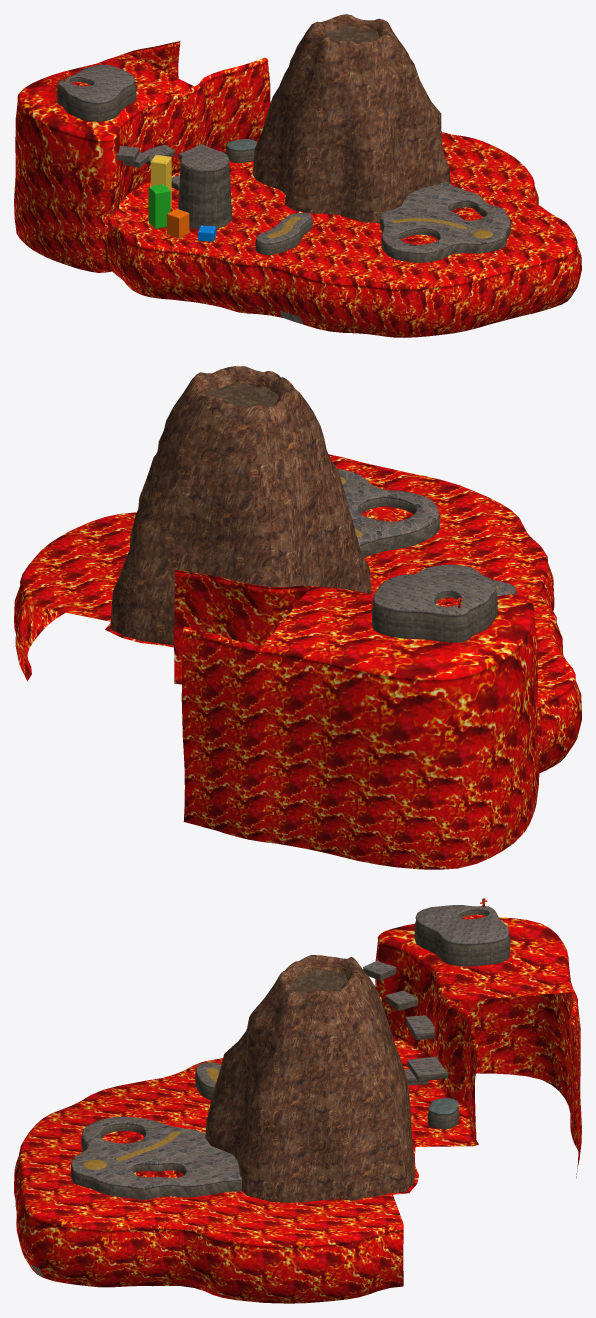
File: LavaStartPlanet.fbx
3 renders of one model, top to bottom at view 1: azimuth 30°, elevation 25°; view 2: azimuth 150°, elevation 25°; view 3: azimuth 270°, elevation 25°, orthographic. The views are drawn at different scales.
Visible parts, largest first — view 1: Plane.001, Plane.011, Plane.007, Plane.004, Plane.010, Plane.005, Plane.006; view 2: Plane.001, Plane.011, Plane.007, Plane.004, Plane.006; view 3: Plane.001, Plane.011, Plane.007, Plane.004, Plane.006, Plane.005.
Boxes of the visible parts, bbox=[...] form: Plane.001: bbox=[14, 41, 581, 337]; Plane.011: bbox=[252, 14, 450, 222]; Plane.007: bbox=[58, 64, 576, 324]; Plane.004: bbox=[57, 78, 510, 262]; Plane.010: bbox=[148, 155, 216, 241]; Plane.005: bbox=[267, 216, 492, 238]; Plane.006: bbox=[324, 25, 379, 43]; Plane.001: bbox=[14, 454, 581, 869]; Plane.011: bbox=[110, 366, 371, 645]; Plane.007: bbox=[338, 468, 516, 616]; Plane.004: bbox=[357, 498, 517, 642]; Plane.006: bbox=[207, 383, 278, 406]; Plane.001: bbox=[14, 898, 581, 1303]; Plane.011: bbox=[205, 955, 414, 1202]; Plane.007: bbox=[31, 905, 509, 1277]; Plane.004: bbox=[71, 910, 510, 1199]; Plane.006: bbox=[291, 968, 347, 993]; Plane.005: bbox=[83, 1068, 218, 1169].
Bounding box in the file's own units: 916393 × 449641 × 931682.
9 materials, 9 textured.
